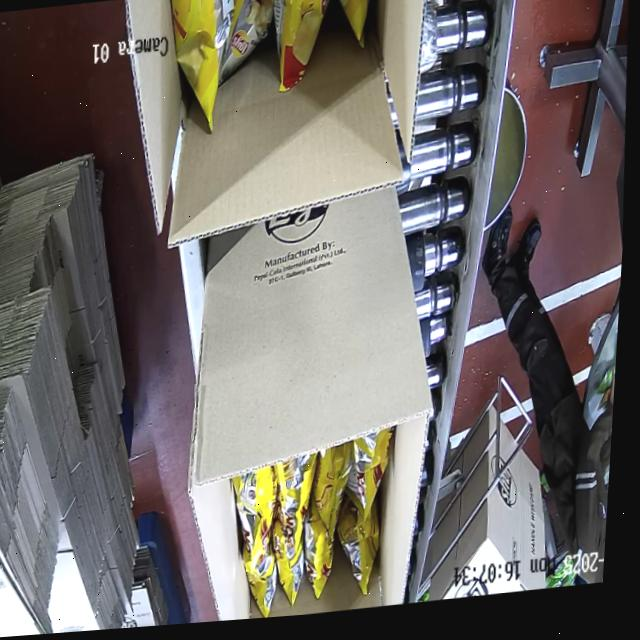SALTED: (220, 437, 403, 621), (144, 0, 377, 125)
